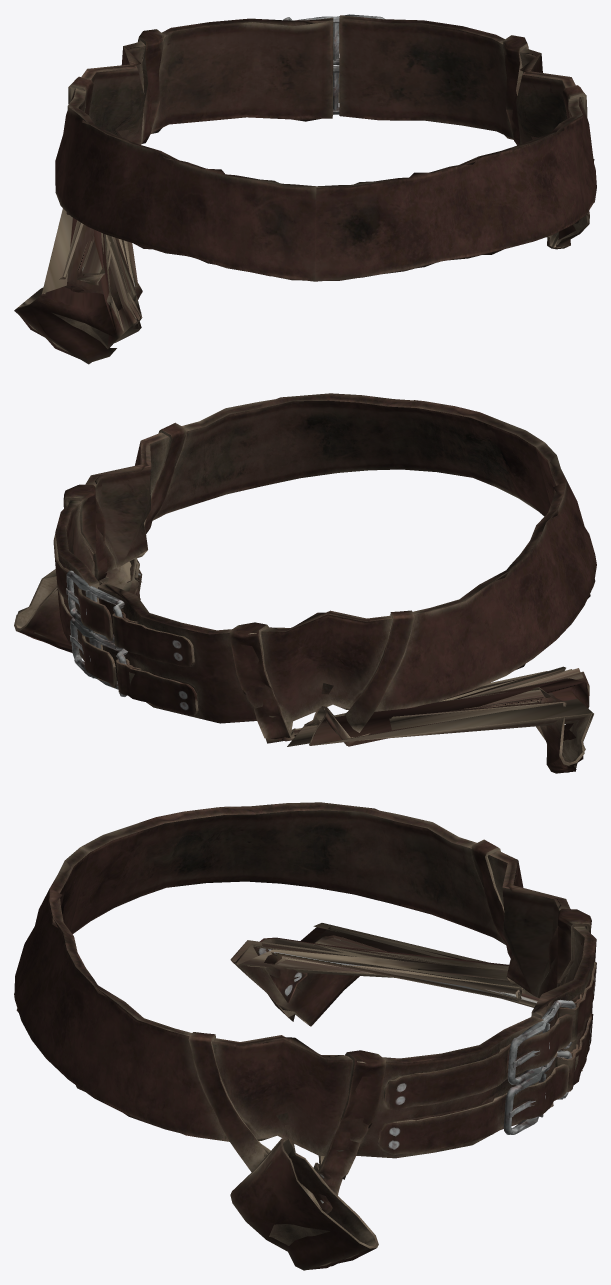
The model's file is belt.glb.
3 renders of one model, top to bottom at view 1: azimuth 30°, elevation 25°; view 2: azimuth 150°, elevation 25°; view 3: azimuth 270°, elevation 25°, orthographic. The views are drawn at different scales.
Visible parts, largest first — view 1: belt; view 2: belt; view 3: belt.
Part boxes in pixels (box(x1,y1,x2,y2)): belt: box(14, 14, 596, 364); belt: box(14, 393, 596, 773); belt: box(14, 802, 596, 1270).
Size of the model in its own units: 0.4002 by 0.1513 by 0.3312.
1 material, 1 textured.
